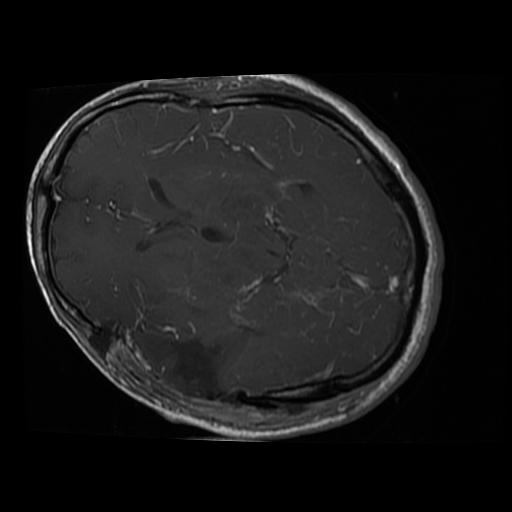glioma: (125, 317, 233, 400)
